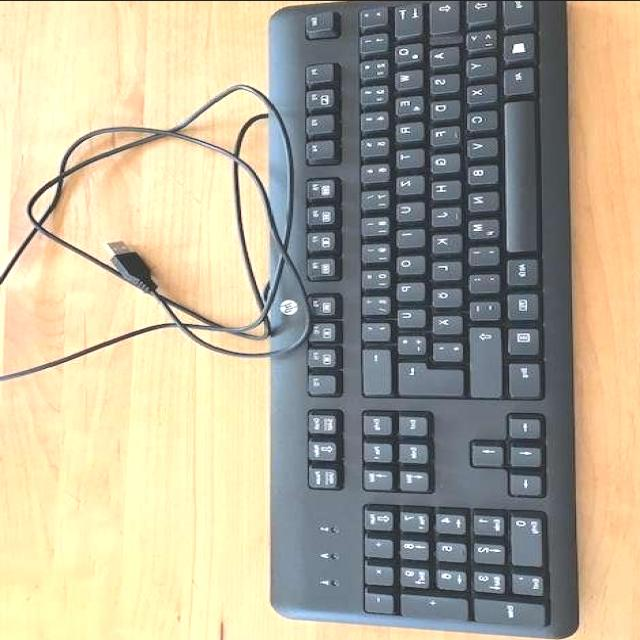0: (357, 266, 389, 286)
1: (354, 29, 386, 51)
2: (355, 56, 387, 76)
3: (356, 81, 386, 101)
4: (356, 108, 386, 128)
5: (357, 133, 387, 155)
6: (357, 160, 387, 180)
7: (357, 186, 387, 208)
8: (357, 213, 389, 233)
9: (357, 240, 389, 260)
a: (425, 43, 457, 65)
accent: (357, 318, 389, 338)
ae: (427, 311, 459, 333)
alt-left: (499, 63, 531, 93)
altgr-right: (503, 255, 535, 283)
b: (463, 160, 495, 182)
c: (462, 107, 494, 129)
caret: (356, 2, 384, 24)
comma: (463, 243, 497, 263)
d: (426, 97, 458, 117)
del: (358, 346, 388, 392)
e: (391, 92, 421, 112)
enter: (392, 357, 460, 396)
f: (425, 123, 457, 143)
g: (426, 150, 456, 170)
h: (426, 177, 458, 197)
hash: (427, 337, 459, 359)
i: (392, 225, 422, 245)
j: (426, 204, 458, 224)
k: (427, 231, 459, 251)
keyboard: (285, 0, 578, 638)
l: (427, 257, 459, 277)
less: (461, 26, 495, 48)
m: (463, 215, 497, 237)
minus: (465, 297, 497, 317)
n: (464, 187, 496, 209)
o: (392, 252, 422, 272)
oe: (427, 285, 459, 305)
p: (392, 278, 422, 298)
plus: (392, 332, 424, 352)
point: (465, 269, 497, 291)
q: (390, 39, 420, 61)
r: (391, 119, 421, 139)
s: (426, 70, 456, 90)
shift-left: (461, 0, 494, 20)
shift-lock: (426, 1, 458, 31)
shift-right: (465, 324, 499, 394)
space: (500, 97, 534, 251)
ss: (358, 292, 388, 312)
strg-left: (499, 0, 531, 24)
strg-right: (504, 358, 538, 396)
t: (391, 145, 421, 165)
tab: (389, 0, 421, 34)
u: (391, 197, 423, 219)
ue: (392, 305, 424, 325)
v: (462, 134, 494, 156)
w: (390, 65, 420, 87)
x: (462, 80, 494, 102)
y: (462, 53, 494, 75)
z: (391, 172, 421, 192)
